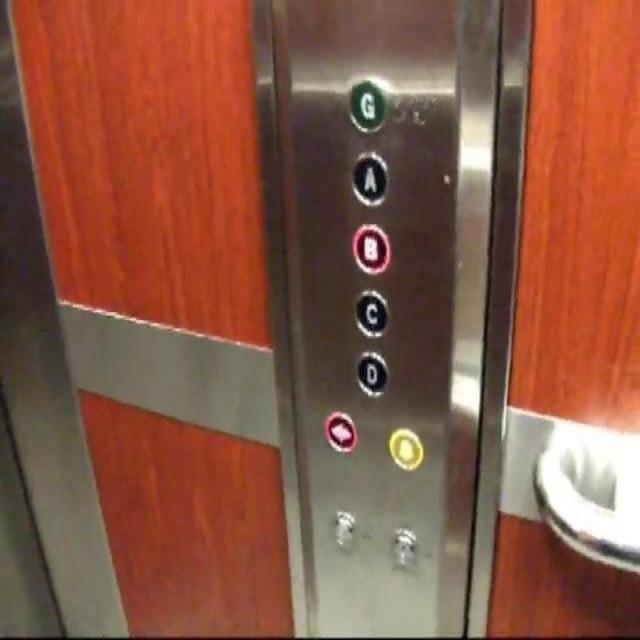A: (348, 147, 391, 210)
B: (349, 218, 391, 274)
C: (350, 283, 393, 340)
D: (351, 347, 391, 400)
G: (344, 76, 387, 133)
alarm: (385, 421, 424, 472)
keyhole: (389, 522, 419, 566), (327, 508, 357, 549)
open: (323, 407, 357, 453)
